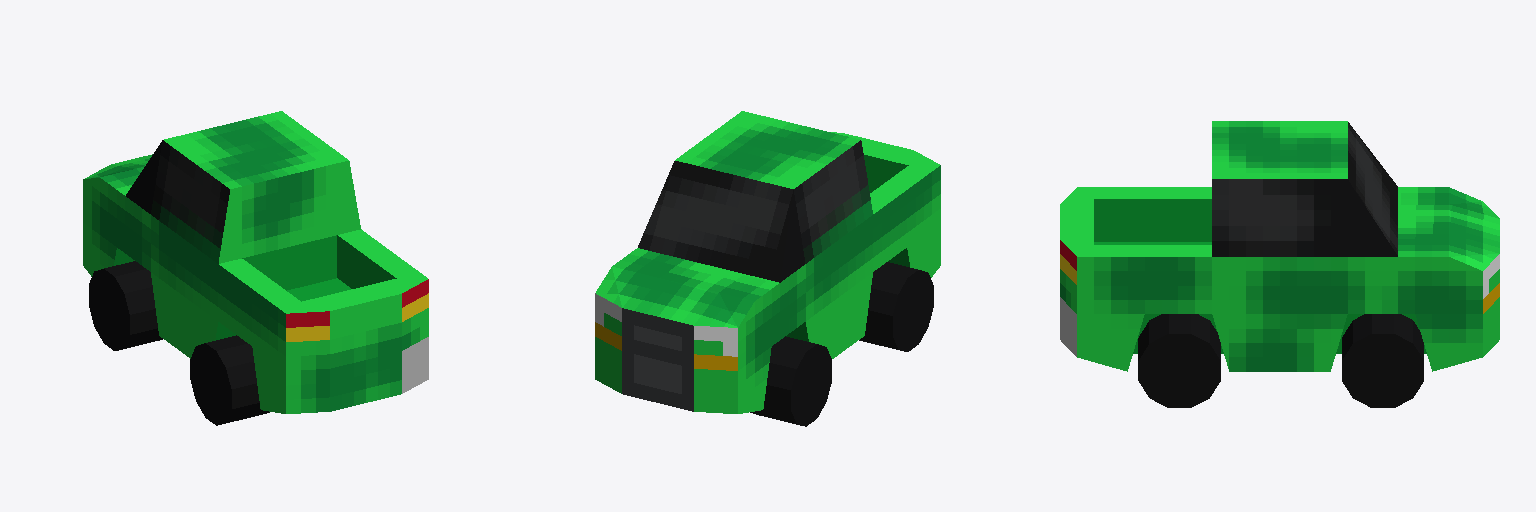
3 views of the same model, side by side, from view 1: azimuth 30°, elevation 25°; view 2: azimuth 150°, elevation 25°; view 3: azimuth 270°, elevation 25° (orthographic).
Visible parts, largest first — view 1: cube; view 2: cube; view 3: cube.
Part boxes in pixels (x1,y1,x2,y2): cube: (83,111,428,425); cube: (595,111,940,426); cube: (1060,121,1499,407).
Size of the model in its own units: 1 by 1.06 by 2.
1 materials, 1 textured.